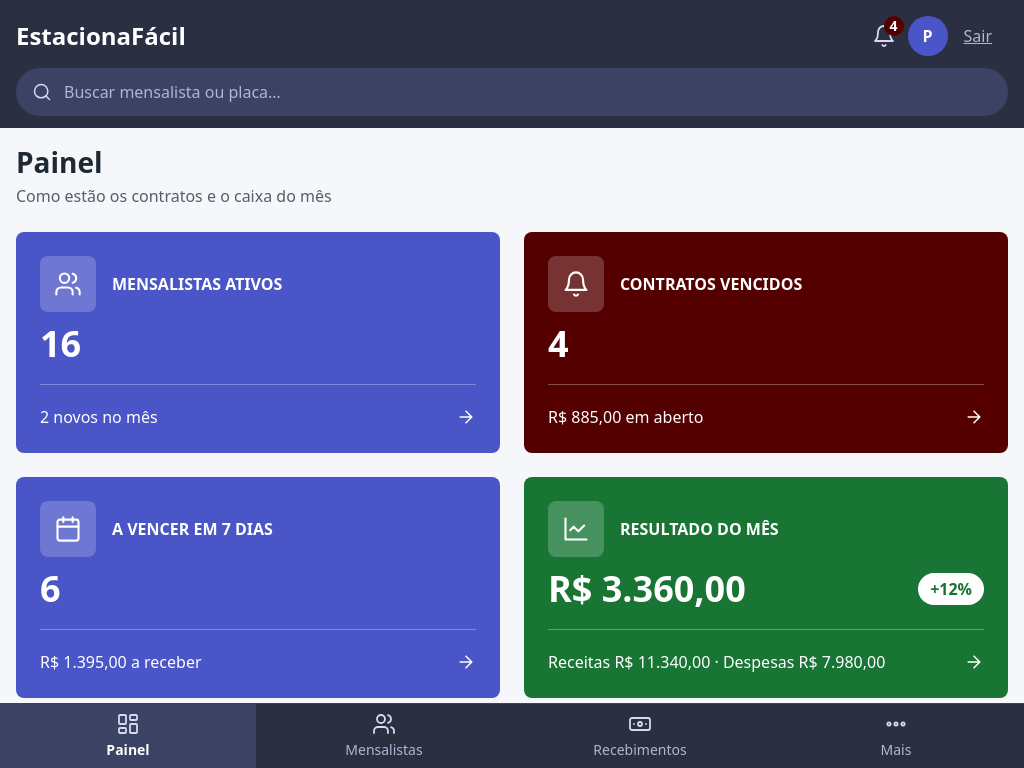
Test: casca no celular — Proprietário › o "Mais" abre a lista das outras abas, leva a uma delas e fecha
Click the button "Mais" at (896, 736), box left=768, top=704, right=1023, bottom=767
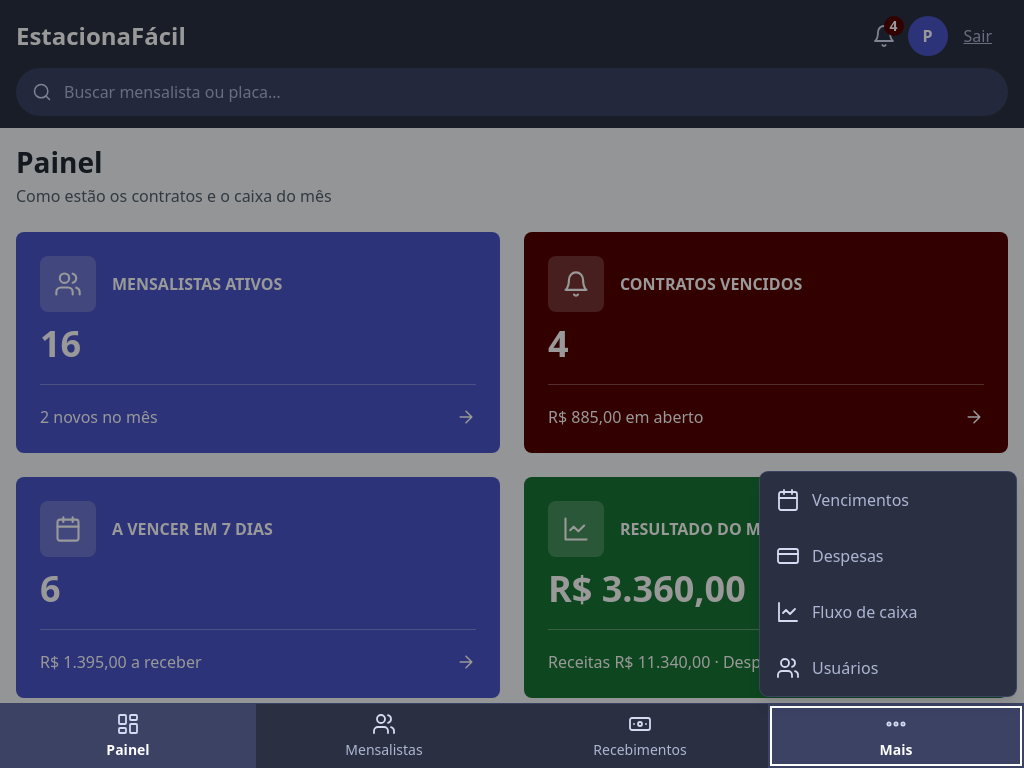
Expected: the links read "Vencimentos", "Despesas", "Fluxo de caixa", "Usuários", in this order
Click the link "Vencimentos" at (842, 500), box left=776, top=488, right=909, bottom=512
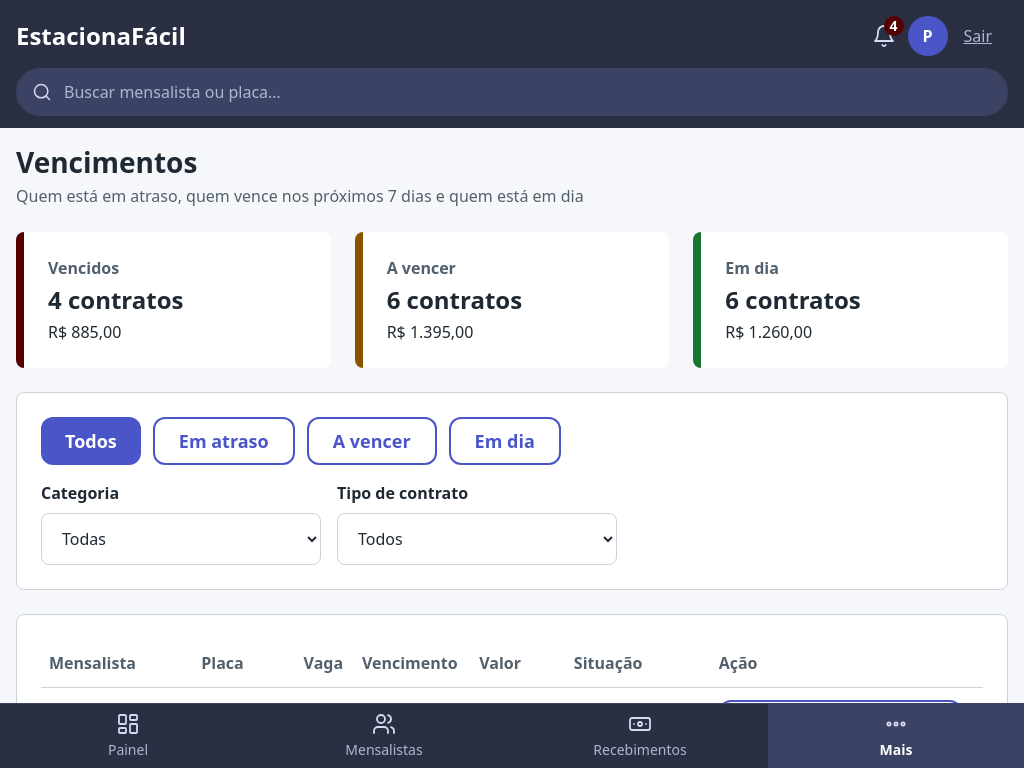
Expected: the button "Mais" is shown, left=768, top=704, right=1023, bottom=767
Expected: the heading "Vencimentos" is shown, left=16, top=143, right=197, bottom=181
